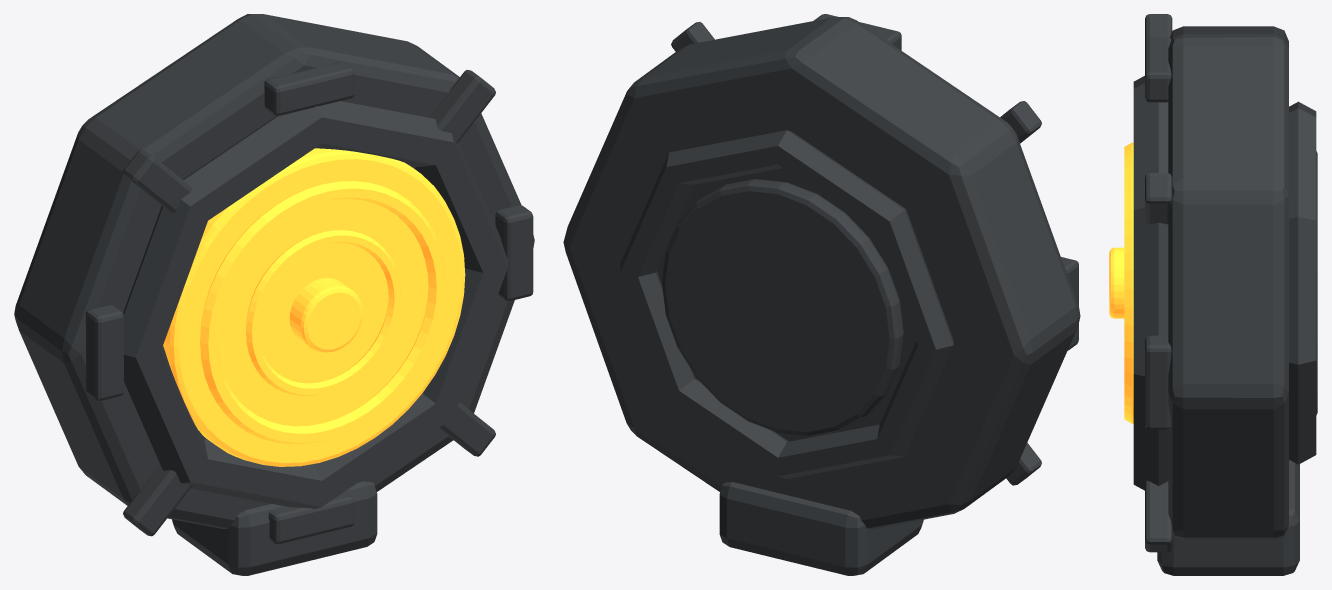
The model's file is relic-sunstone-lens-focal-lod0.glb.
3 renders of one model, left to right at view 1: azimuth 30°, elevation 25°; view 2: azimuth 150°, elevation 25°; view 3: azimuth 270°, elevation 25°, orthographic.
Visible parts, largest first — view 1: xenovoya_runtime_asset; view 2: xenovoya_runtime_asset; view 3: xenovoya_runtime_asset.
Boxes of the visible parts, left/top/right/bottom form: xenovoya_runtime_asset: left=14, top=14, right=534, bottom=575; xenovoya_runtime_asset: left=563, top=14, right=1080, bottom=575; xenovoya_runtime_asset: left=1109, top=14, right=1317, bottom=575.
Bounding box in the file's own units: 1.98 × 2.05 × 0.7601.
